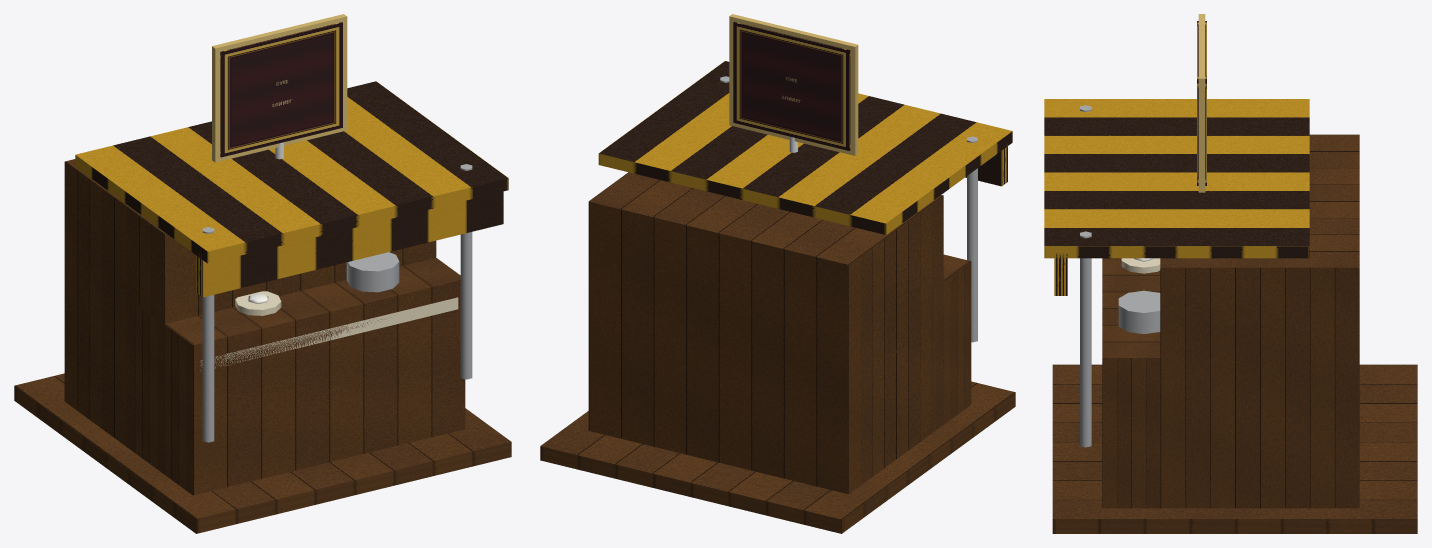
The model's file is vendor_funnelcake.glb.
The picture shows the model from 3 angles, left to right: view 1: azimuth 30°, elevation 25°; view 2: azimuth 150°, elevation 25°; view 3: azimuth 270°, elevation 25°; orthographic projection. The views are drawn at different scales.
Visible parts, largest first — view 1: base, sign, prop; view 2: base, sign; view 3: base, sign, prop.
Part boxes in pixels (<box>): base: <box>14,81,511,533</box>; sign: <box>212,14,347,162</box>; prop: <box>235,291,281,315</box>; base: <box>540,61,1015,533</box>; sign: <box>729,14,858,155</box>; base: <box>1044,99,1417,533</box>; sign: <box>1197,14,1206,192</box>; prop: <box>1121,258,1160,273</box>.
Size of the model in its own units: 2.2 by 2.73 by 2.25.
Materials: 8 (3 with a texture image).
